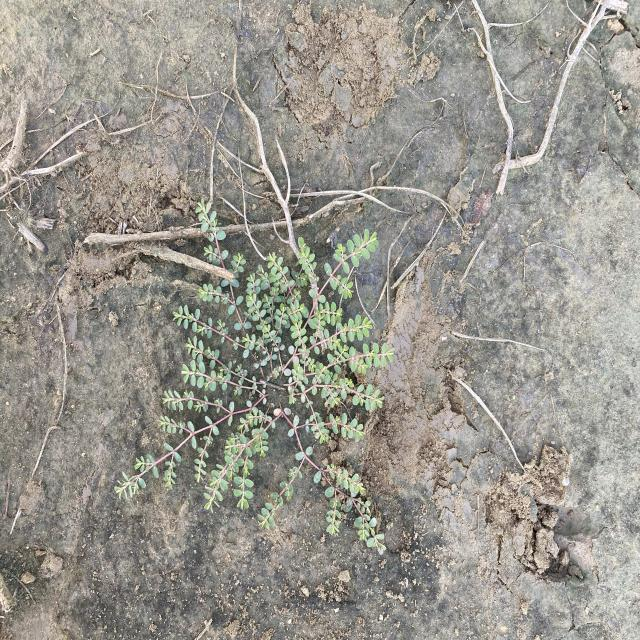SpottedSpurge: (113, 195, 396, 558)
